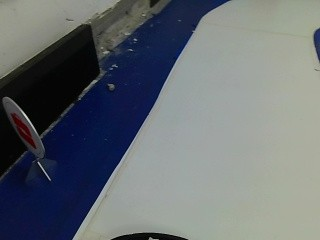company: (2, 96, 47, 159)
